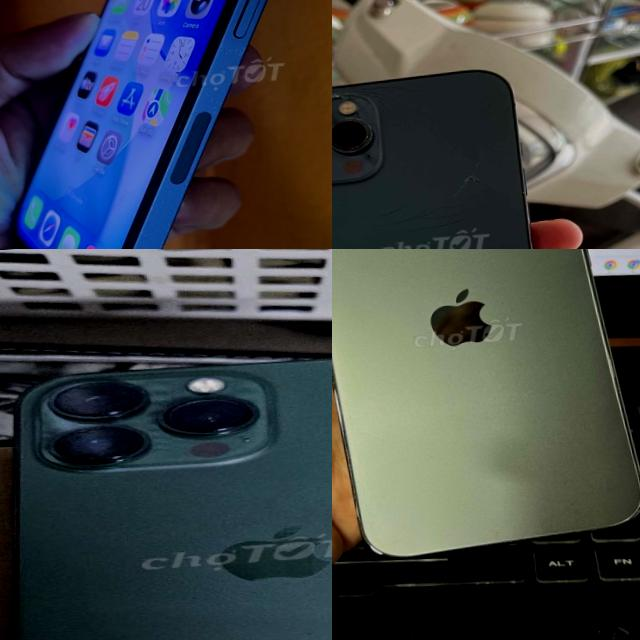physical_damage: (376, 170, 496, 247), (332, 80, 364, 124), (332, 119, 343, 166)
